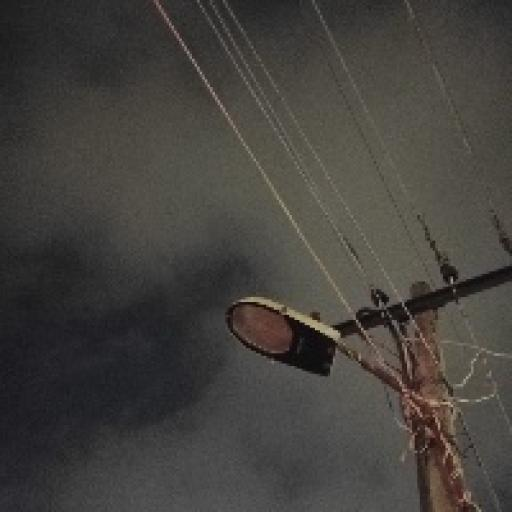Not Working: (211, 284, 349, 392)
